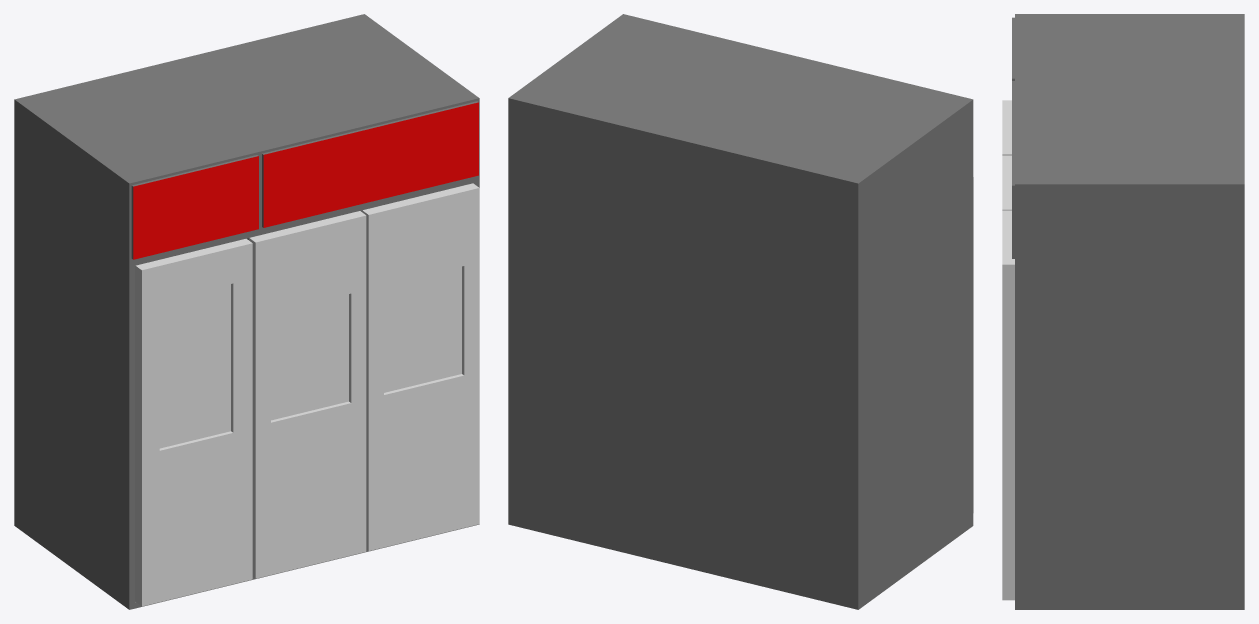
Rendered from Subestacion.fbx.
The picture shows the model from 3 angles, left to right: view 1: azimuth 30°, elevation 25°; view 2: azimuth 150°, elevation 25°; view 3: azimuth 270°, elevation 25°; orthographic projection.
Parts seen in each view (by area): view 1: Box001, Box003, Box004, Box002, Box007, Box006, Box005; view 2: Box001; view 3: Box001, Box004, Box002, Box003.
Part boxes in pixels (x1,y1,x2,y2): Box001: (14,14,479,609); Box003: (248,211,366,578); Box004: (361,183,479,550); Box002: (135,238,252,606); Box007: (159,284,230,448); Box006: (271,294,348,420); Box005: (384,266,461,392); Box001: (508,14,973,609); Box001: (1012,14,1244,609); Box004: (1002,210,1014,600); Box002: (1002,100,1011,155); Box003: (1002,155,1011,210).
Size of the model in its own units: 63.16 by 73.51 by 37.9.
